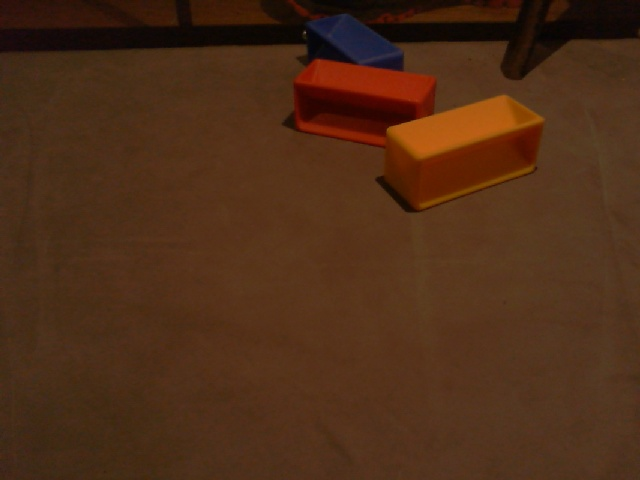BlueSample: (305, 13, 404, 81)
RedSample: (290, 57, 439, 144)
YellowSample: (380, 93, 547, 211)
